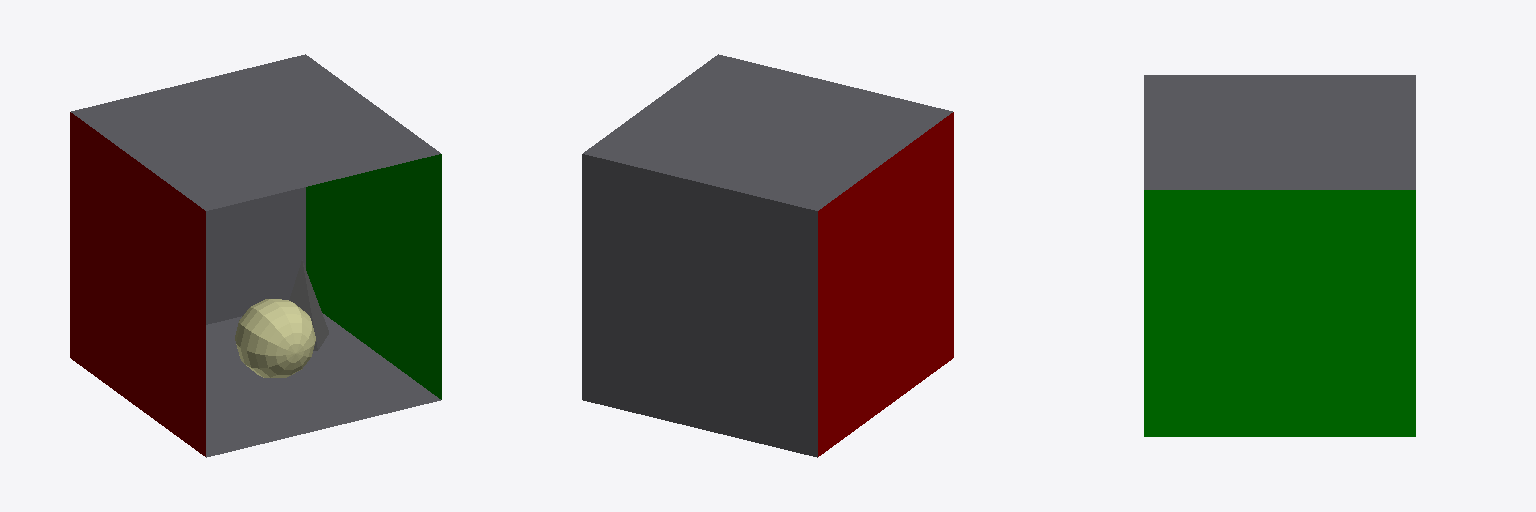
Rendered from cornell_box2.obj.
The picture shows the model from 3 angles: view 1: azimuth 30°, elevation 25°; view 2: azimuth 150°, elevation 25°; view 3: azimuth 270°, elevation 25°; orthographic projection.
Bounding box in the file's own units: 1 × 1 × 1.